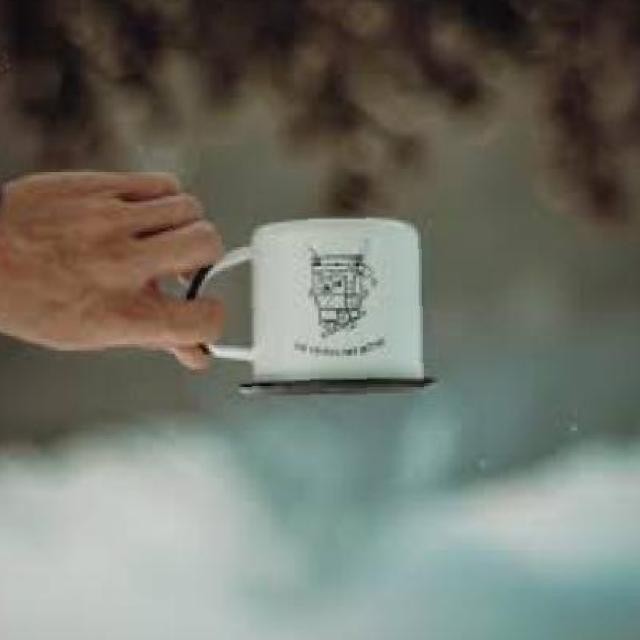cup: (174, 208, 445, 406)
